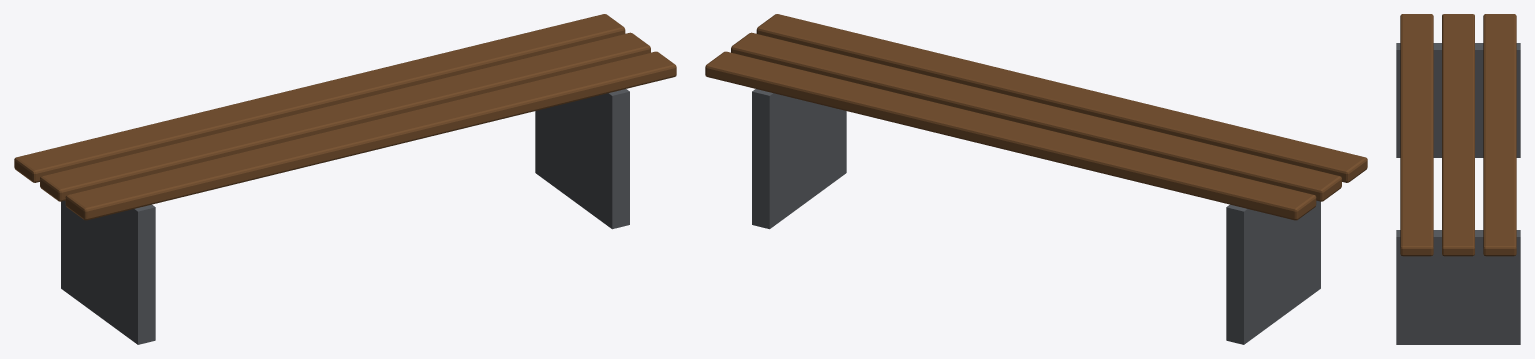
The model's file is mall_bench.glb.
3 renders of one model, left to right at view 1: azimuth 30°, elevation 25°; view 2: azimuth 150°, elevation 25°; view 3: azimuth 270°, elevation 25°, orthographic. The views are drawn at different scales.
Parts seen in each view (by area): view 1: mall_bench; view 2: mall_bench; view 3: mall_bench.
Part boxes in pixels (x1,y1,x2,y2): mall_bench: (14, 14, 676, 344); mall_bench: (705, 14, 1367, 344); mall_bench: (1396, 14, 1520, 344).
Bounding box in the file's own units: 2 × 0.47 × 0.45.
Materials: 1 (1 with a texture image).
